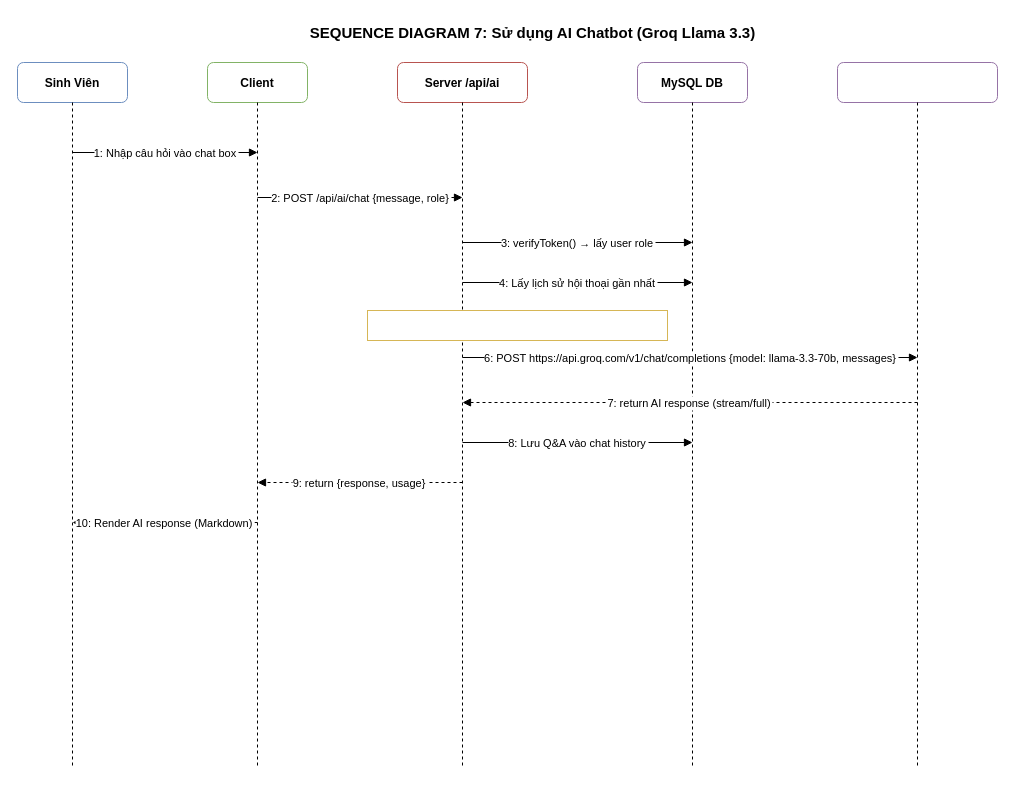
Image size: 1015x786. Some labels were removed from this diagram. Each missing label, with the box of its shape:
5: Xây dựng system prompt (STUDENT_PROMPT / TEACHER_PROMPT): (366, 310, 668, 340)
Groq API (Llama 3.3): (836, 62, 998, 102)
